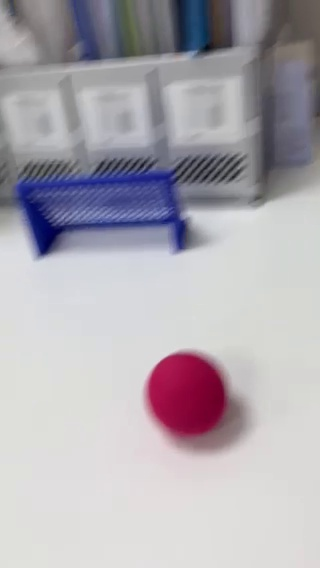goal: (11, 157, 188, 260)
redball: (140, 342, 237, 441)
